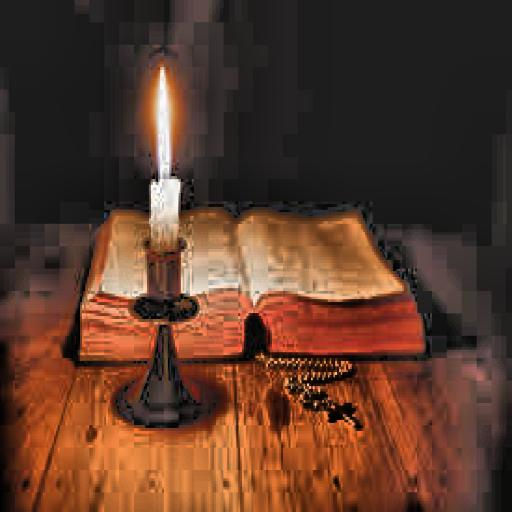fire: (140, 56, 188, 179)
